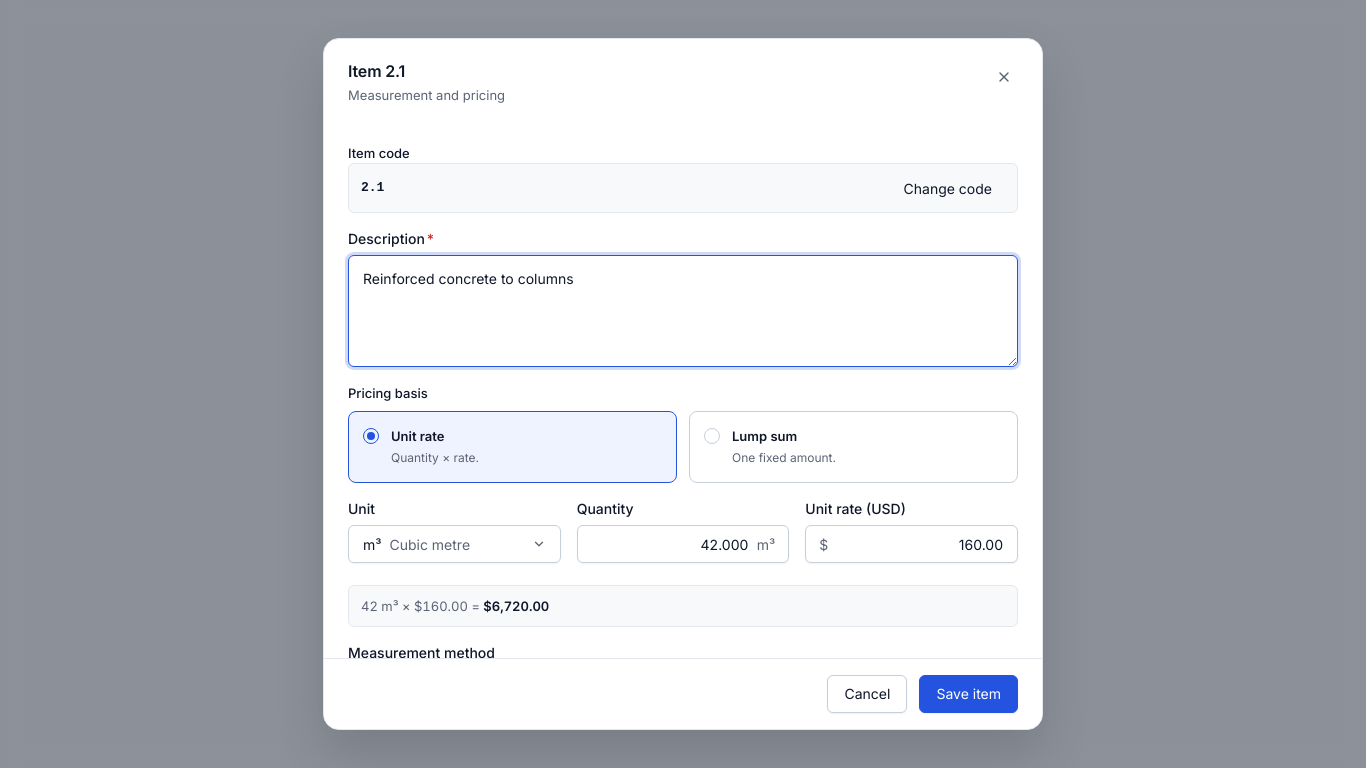
Test: BoqItemDialog — unit dropdown › offers no empty choice once a line has a unit, because the API cannot clear one
Click the dropdown named "Unit". click: (454, 544)
box: [348,525,561,563]
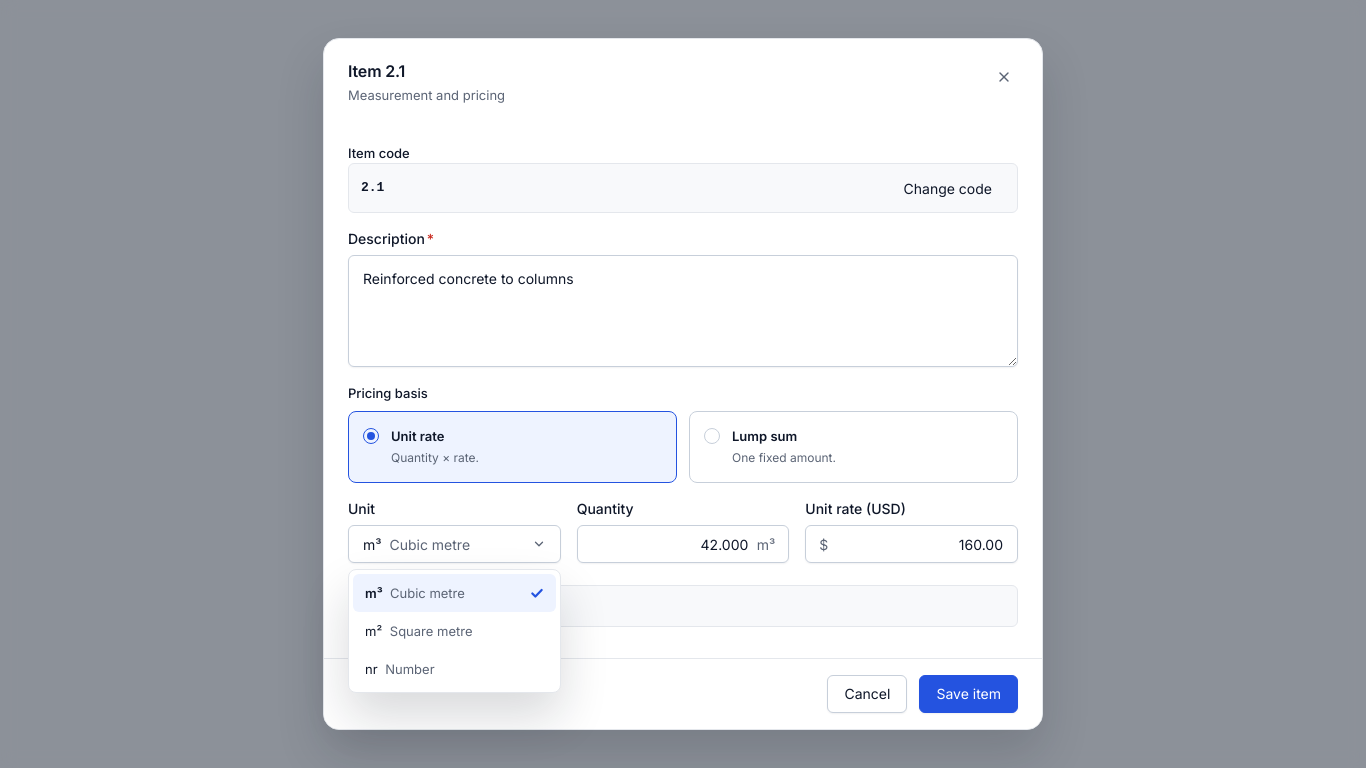
Expected: the list is shown, [348,569,561,693]
